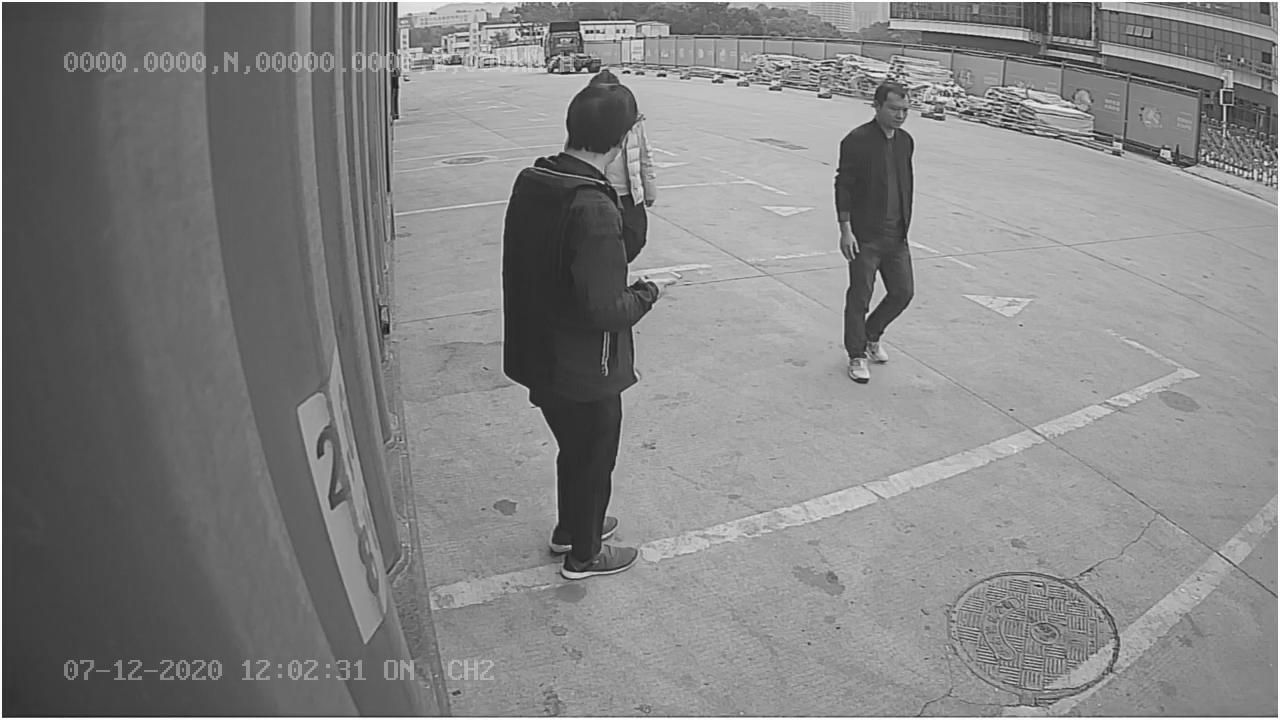person: (482, 68, 673, 585), (831, 73, 923, 386)
